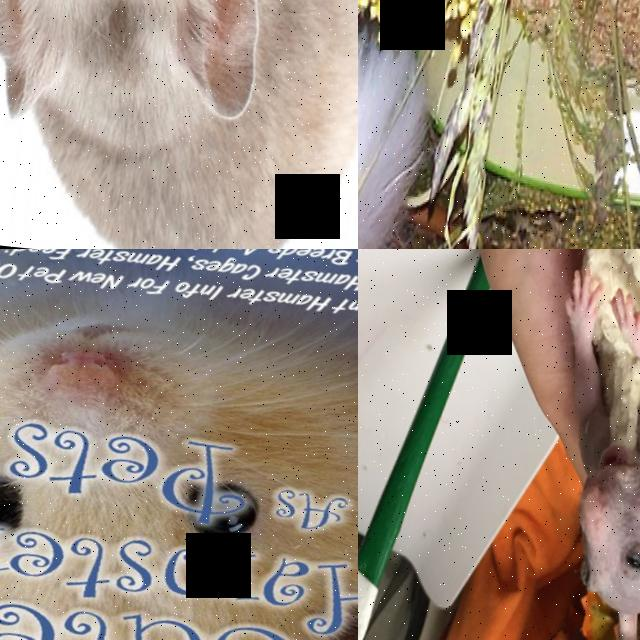hamster: (0, 0, 358, 249), (527, 249, 640, 640), (358, 11, 434, 249)
